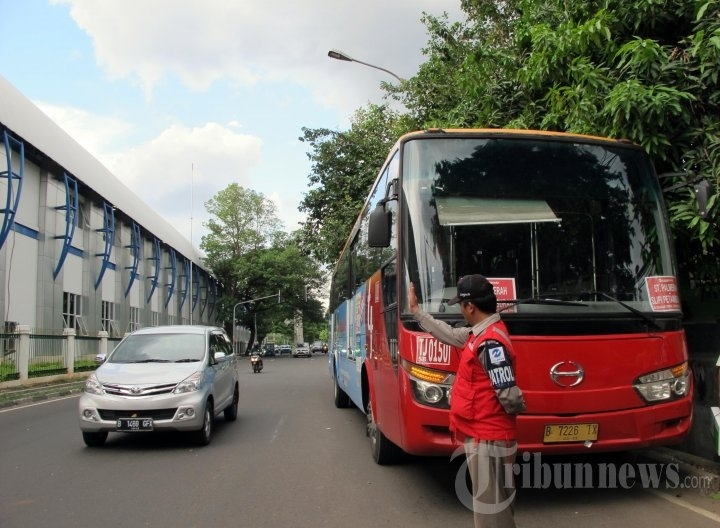plate: (542, 424, 596, 444), (116, 418, 154, 431)
